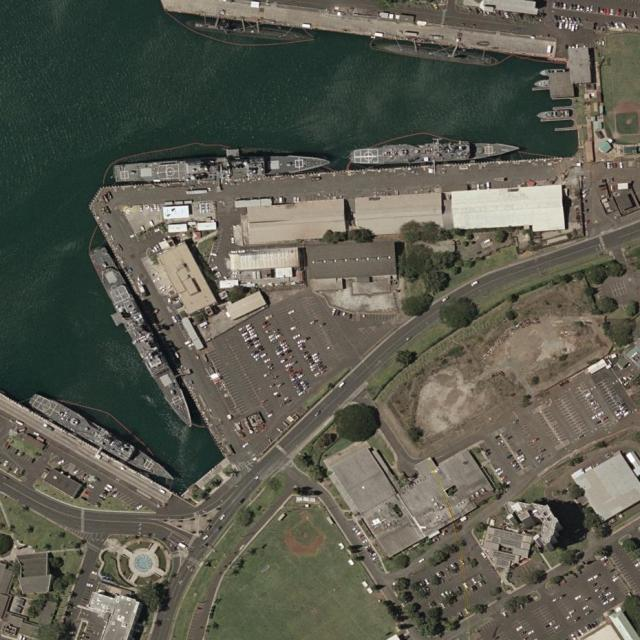Cruiser: (87, 244, 198, 430), (114, 153, 330, 183)
Frigate: (25, 389, 180, 485), (351, 138, 519, 167)
Submarine: (184, 19, 314, 41), (380, 43, 497, 67)
